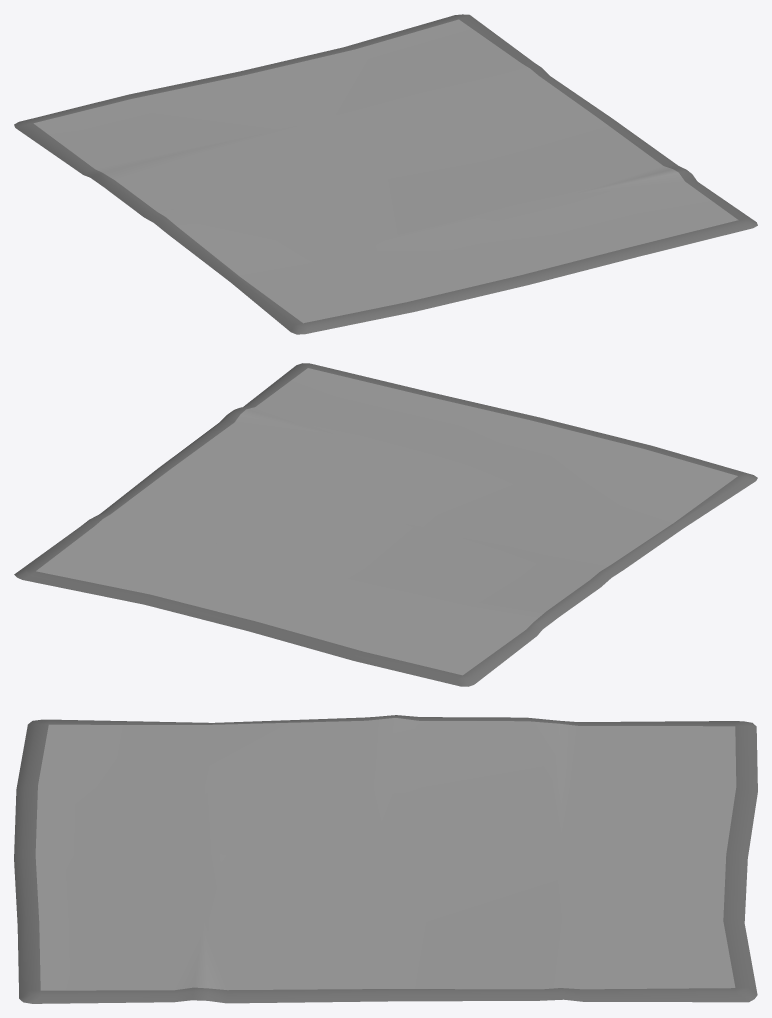
Rendered from carpet_017.fbx.
3 renders of one model, top to bottom at view 1: azimuth 30°, elevation 25°; view 2: azimuth 150°, elevation 25°; view 3: azimuth 270°, elevation 25°, orthographic. The views are drawn at different scales.
Visible parts, largest first — view 1: carpet_017; view 2: carpet_017; view 3: carpet_017.
Part boxes in pixels (x1=…): carpet_017: x1=14, y1=14, x2=757, y2=334; carpet_017: x1=14, y1=363, x2=757, y2=686; carpet_017: x1=14, y1=715, x2=757, y2=1003.
Size of the model in its own units: 422 by 466 by 7.71.
